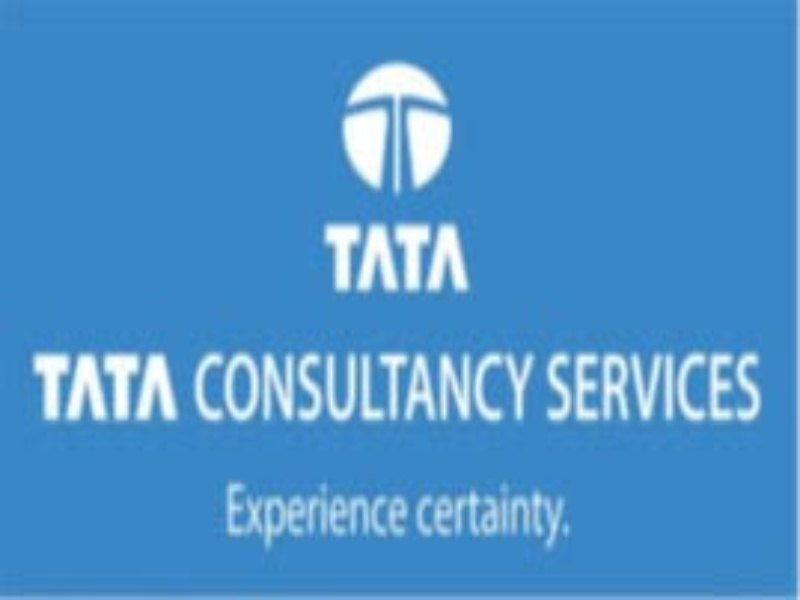tcs: (334, 55, 454, 202)
